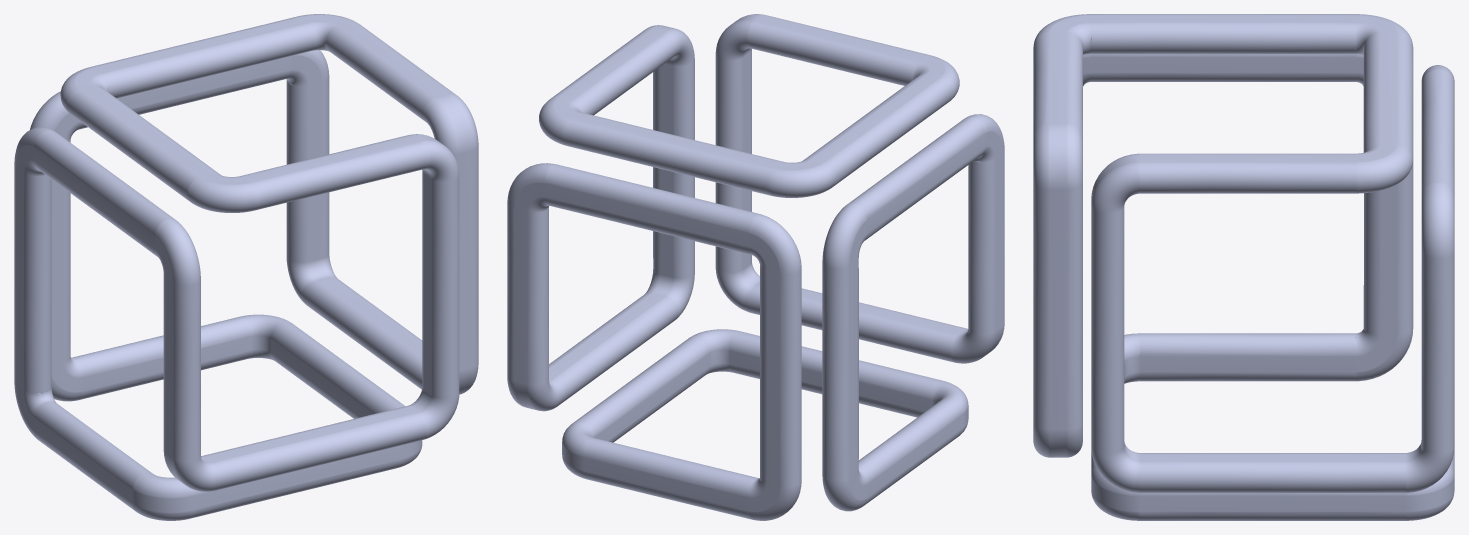
File: sgi-cube.glb
3 renders of one model, left to right at view 1: azimuth 30°, elevation 25°; view 2: azimuth 150°, elevation 25°; view 3: azimuth 270°, elevation 25°, orthographic. The views are drawn at different scales.
Size of the model in its own units: 12.75 by 12.75 by 12.75.
